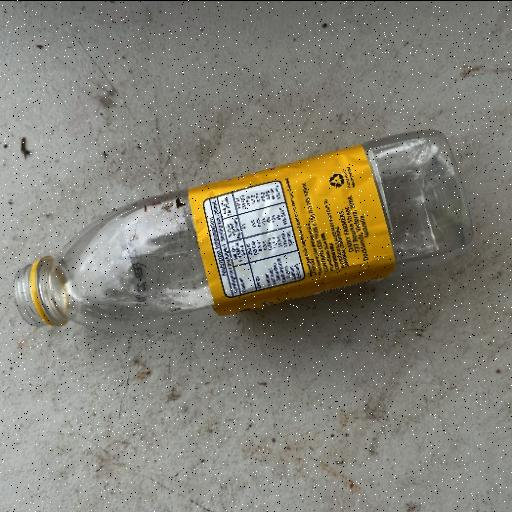Plastic: (13, 127, 474, 336)
